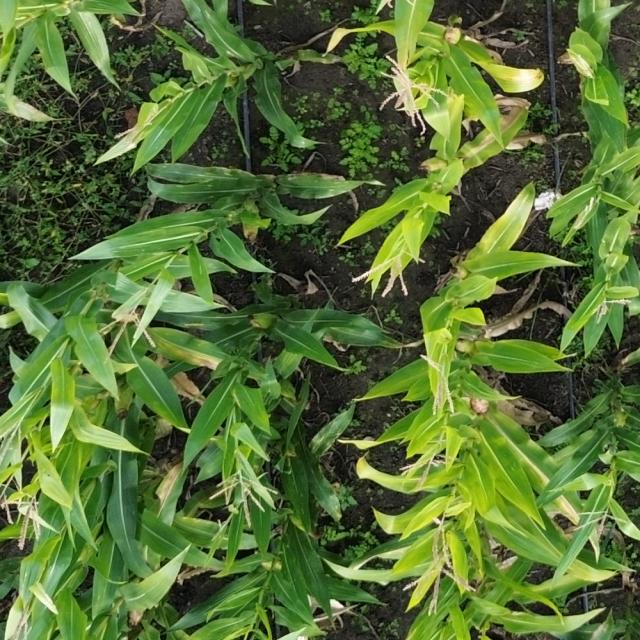gray-leaf-spot: (162, 166, 361, 219), (284, 409, 355, 520)
northern-leaf-blight: (446, 97, 539, 173), (154, 325, 228, 372), (148, 455, 184, 524)
